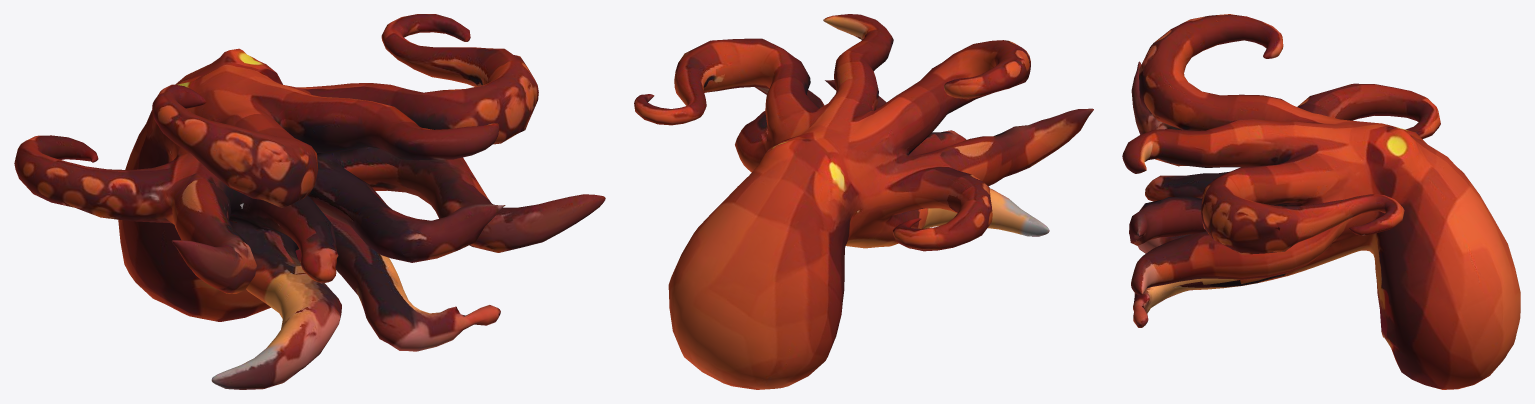
File: Akkorokamui.glb
3 views of the same model, side by side, from view 1: azimuth 30°, elevation 25°; view 2: azimuth 150°, elevation 25°; view 3: azimuth 270°, elevation 25° (orthographic). The views are drawn at different scales.
Parts seen in each view (by area): view 1: Retopo_Akkorokamui.002; view 2: Retopo_Akkorokamui.002; view 3: Retopo_Akkorokamui.002.
Part boxes in pixels (<box>): Retopo_Akkorokamui.002: <box>14,14,605,389</box>; Retopo_Akkorokamui.002: <box>634,14,1093,389</box>; Retopo_Akkorokamui.002: <box>1122,14,1520,389</box>.
Bounding box in the file's own units: 1.92 × 1.46 × 1.8.
1 material, 1 textured.
